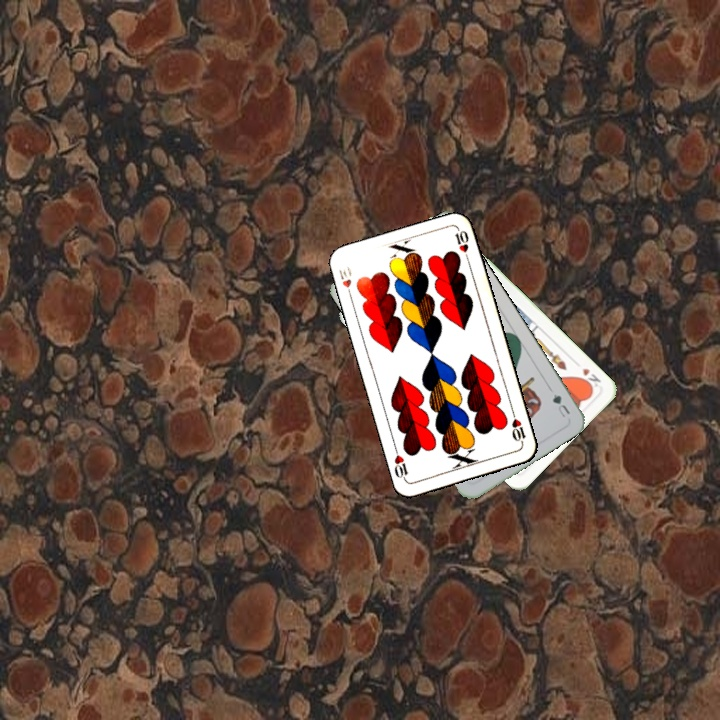GU: (548, 389, 573, 421)
H10: (508, 407, 528, 447), (335, 262, 355, 301)
HK: (576, 364, 604, 392)
